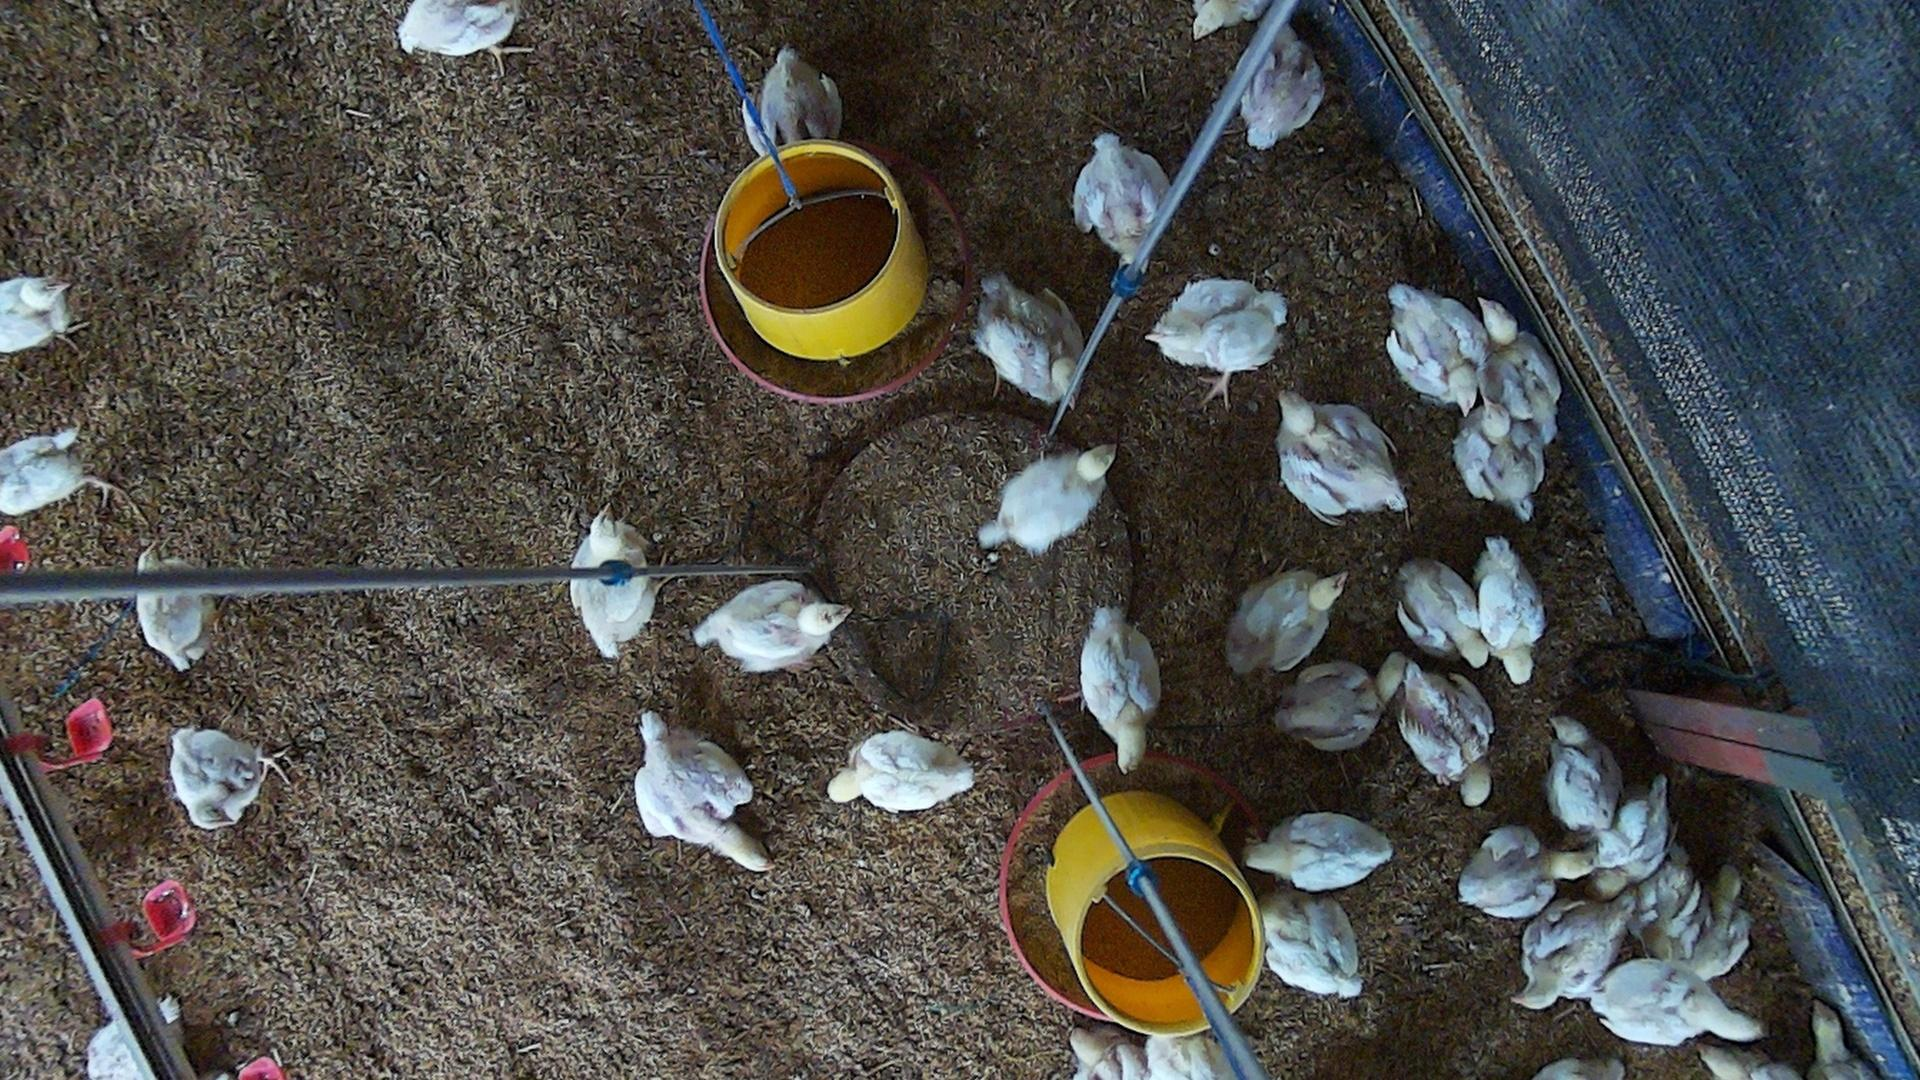ayam_broiler: (636, 712, 769, 869), (1150, 277, 1288, 407), (1278, 390, 1407, 517), (571, 502, 675, 658), (975, 269, 1091, 407), (1393, 657, 1494, 807), (977, 444, 1116, 554), (1, 429, 152, 529), (1072, 132, 1172, 281), (1588, 960, 1763, 1043), (694, 579, 845, 671), (1481, 302, 1563, 472), (1080, 607, 1162, 770), (1386, 282, 1489, 409), (1225, 567, 1344, 675), (1456, 825, 1596, 916), (171, 727, 293, 831), (1516, 899, 1631, 1007), (828, 727, 973, 810), (1245, 811, 1395, 889), (1453, 397, 1544, 520), (742, 45, 843, 156), (1255, 894, 1361, 996), (1275, 658, 1391, 750), (1592, 773, 1672, 901), (1242, 22, 1324, 148), (1476, 534, 1544, 683), (1395, 556, 1486, 669), (135, 539, 211, 670), (1548, 719, 1622, 853), (1633, 843, 1704, 960), (1688, 860, 1751, 986), (398, 0, 517, 54), (1, 277, 74, 353)
